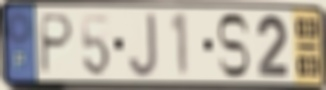1: (168, 10, 188, 81)
2: (255, 13, 291, 81)
5: (79, 12, 113, 77)
J: (127, 11, 160, 80)
P: (38, 12, 76, 77)
S: (214, 12, 252, 80)
